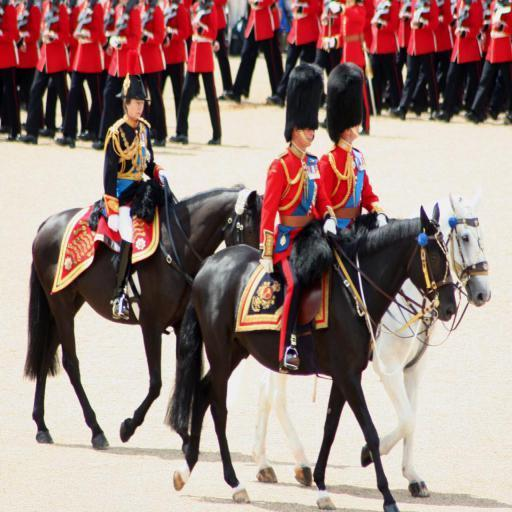horse: (162, 200, 460, 512), (250, 188, 492, 499), (21, 181, 264, 445)
